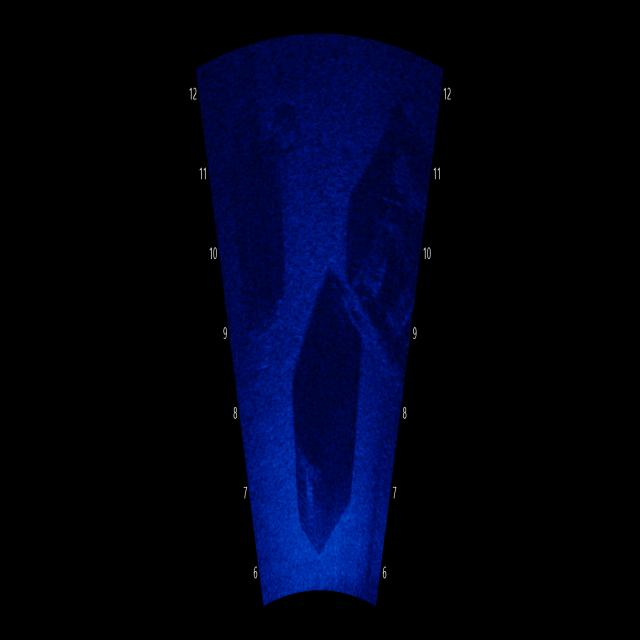square: (286, 247, 372, 566), (220, 90, 293, 337)
